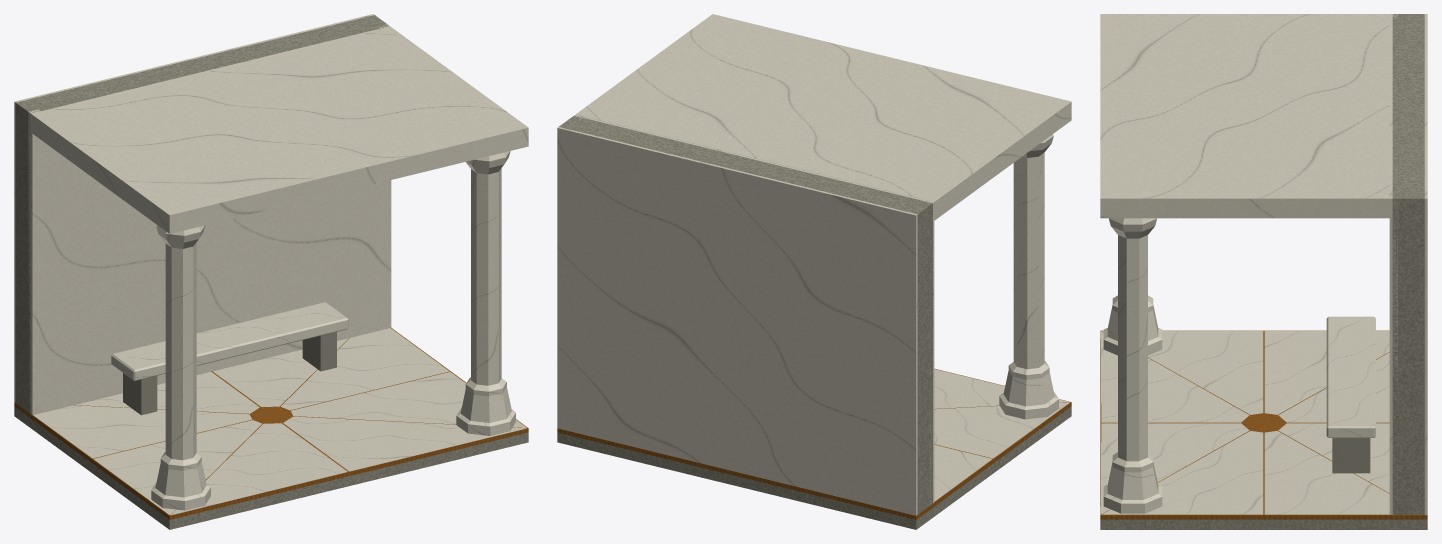
The picture shows the model from 3 angles, left to right: view 1: azimuth 30°, elevation 25°; view 2: azimuth 150°, elevation 25°; view 3: azimuth 270°, elevation 25°; orthographic projection. The views are drawn at different scales.
Parts seen in each view (by area): view 1: Portico stone shade lintel, Replaceable marble facing panel, Bearing masonry wall segment, Marble pier stepped octagonal facing, Marble pier stepped octagonal facing.001, Replaceable flush radial marble floor sector.001, Quiet portico bench seat, Replaceable flush radial marble floor sector, Replaceable flush radial marble floor sector.003, Replaceable flush radial marble floor sector.006, Stone floor substrate, Replaceable flush radial marble floor sector.002 (+8 smaller); view 2: Replaceable marble facing panel.001, Portico stone shade lintel, Bearing masonry wall segment, Marble pier stepped octagonal facing, Stone floor substrate, Replaceable flush radial marble floor sector.007, Recessed continuous bronze inlay bed, Replaceable flush radial marble floor sector, Replaceable flush radial marble floor sector.006, Replaceable marble facing panel; view 3: Portico stone shade lintel, Bearing masonry wall segment, Marble pier stepped octagonal facing.001, Replaceable flush radial marble floor sector.003, Replaceable flush radial marble floor sector.002, Replaceable flush radial marble floor sector.007, Quiet portico bench seat, Replaceable flush radial marble floor sector, Replaceable flush radial marble floor sector.006, Replaceable flush radial marble floor sector.001, Recessed continuous bronze inlay bed, Stone floor substrate (+8 smaller).
Part boxes in pixels (<box>): Portico stone shade lintel: <box>32,27,528,233</box>; Replaceable marble facing panel: <box>31,26,391,414</box>; Bearing masonry wall segment: <box>15,15,388,413</box>; Marble pier stepped octagonal facing: <box>151,196,210,510</box>; Marble pier stepped octagonal facing.001: <box>456,122,515,435</box>; Replaceable flush radial marble floor sector.001: <box>283,416,526,471</box>; Quiet portico bench seat: <box>111,302,348,380</box>; Replaceable flush radial marble floor sector: <box>171,423,347,515</box>; Replaceable flush radial marble floor sector.003: <box>280,328,449,410</box>; Replaceable flush radial marble floor sector.006: <box>33,405,251,458</box>; Stone floor substrate: <box>14,406,528,529</box>; Replaceable flush radial marble floor sector.002: <box>291,372,526,427</box>; Replaceable marble facing panel.001: <box>557,127,917,515</box>; Portico stone shade lintel: <box>575,14,1071,220</box>; Bearing masonry wall segment: <box>559,115,932,514</box>; Marble pier stepped octagonal facing: <box>999,105,1058,419</box>; Stone floor substrate: <box>557,406,1071,529</box>; Replaceable flush radial marble floor sector.007: <box>934,402,1069,458</box>; Recessed continuous bronze inlay bed: <box>557,368,1071,519</box>; Replaceable flush radial marble floor sector: <box>934,369,1068,408</box>; Replaceable flush radial marble floor sector.006: <box>934,445,991,501</box>; Replaceable marble facing panel: <box>574,114,934,502</box>; Portico stone shade lintel: <box>1100,14,1389,218</box>; Bearing masonry wall segment: <box>1392,14,1424,514</box>; Marble pier stepped octagonal facing.001: <box>1103,184,1162,513</box>; Replaceable flush radial marble floor sector.003: <box>1264,431,1389,514</box>; Replaceable flush radial marble floor sector.002: <box>1102,431,1263,514</box>; Replaceable flush radial marble floor sector.007: <box>1102,331,1263,414</box>; Quiet portico bench seat: <box>1326,316,1375,437</box>; Replaceable flush radial marble floor sector: <box>1100,331,1249,422</box>; Replaceable flush radial marble floor sector.006: <box>1264,331,1389,414</box>; Replaceable flush radial marble floor sector.001: <box>1100,423,1249,514</box>; Recessed continuous bronze inlay bed: <box>1100,330,1427,519</box>; Stone floor substrate: <box>1100,519,1427,529</box>.
Bounding box in the file's own units: 4 × 3.35 × 3.
3 materials, 3 textured.
